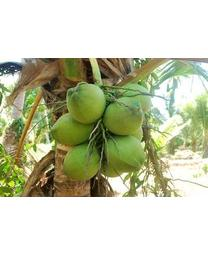coconut: (103, 132, 146, 171), (66, 82, 106, 123), (102, 97, 141, 135), (52, 111, 95, 142), (62, 145, 100, 179)
